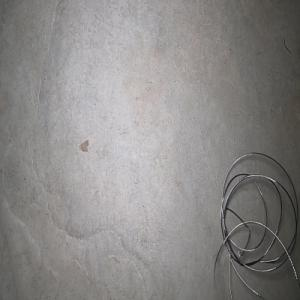Wire: (213, 152, 300, 300)
